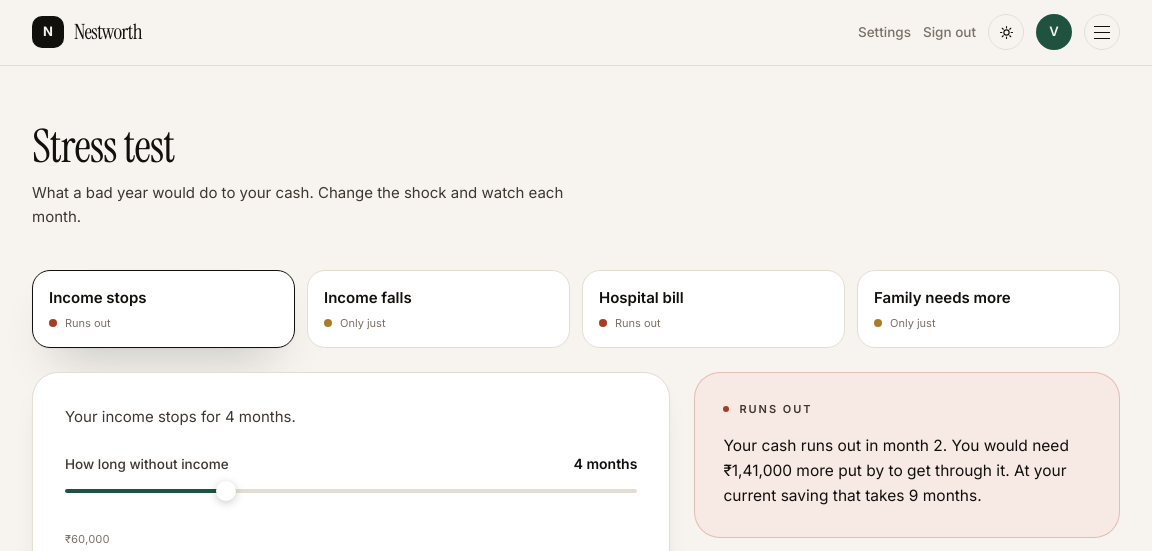
the stress test page draws, and switching shock changes the description
This screenshot has width=1152, height=551.
Expected: the text "Your income stops for 4 months." is shown, 65,407 -> 296,426
What coordinates should you click on to do the following:
click the tab "Hospital bill Runs out"
I would click on:
 (641, 297)
Its box is 582,270 -> 845,348.
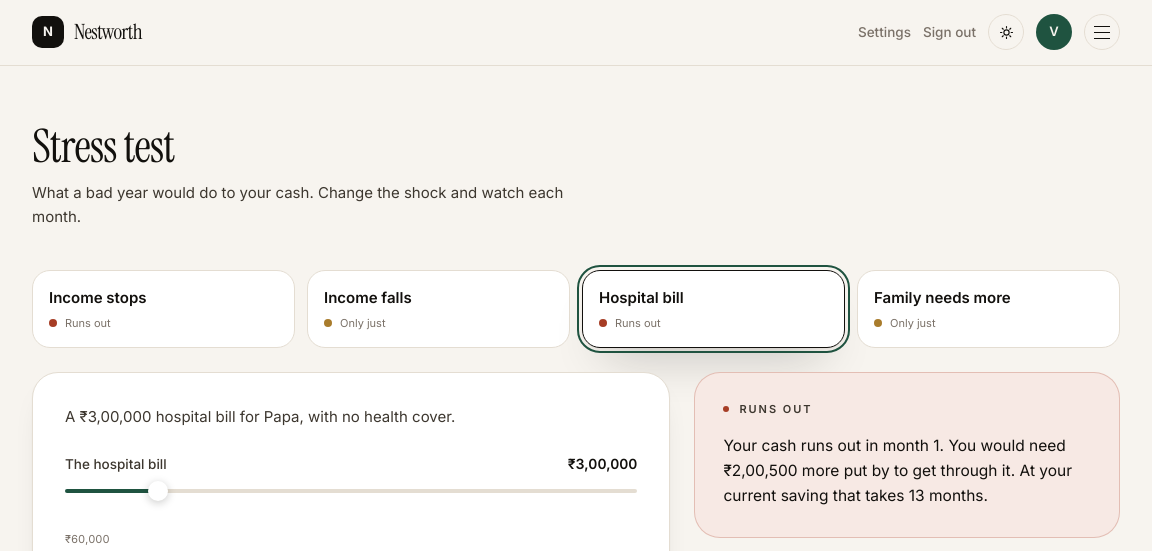
Expected: the text "A ₹3,00,000 hospital bill for Papa, with no health cover." is shown, 65,407 -> 455,426
